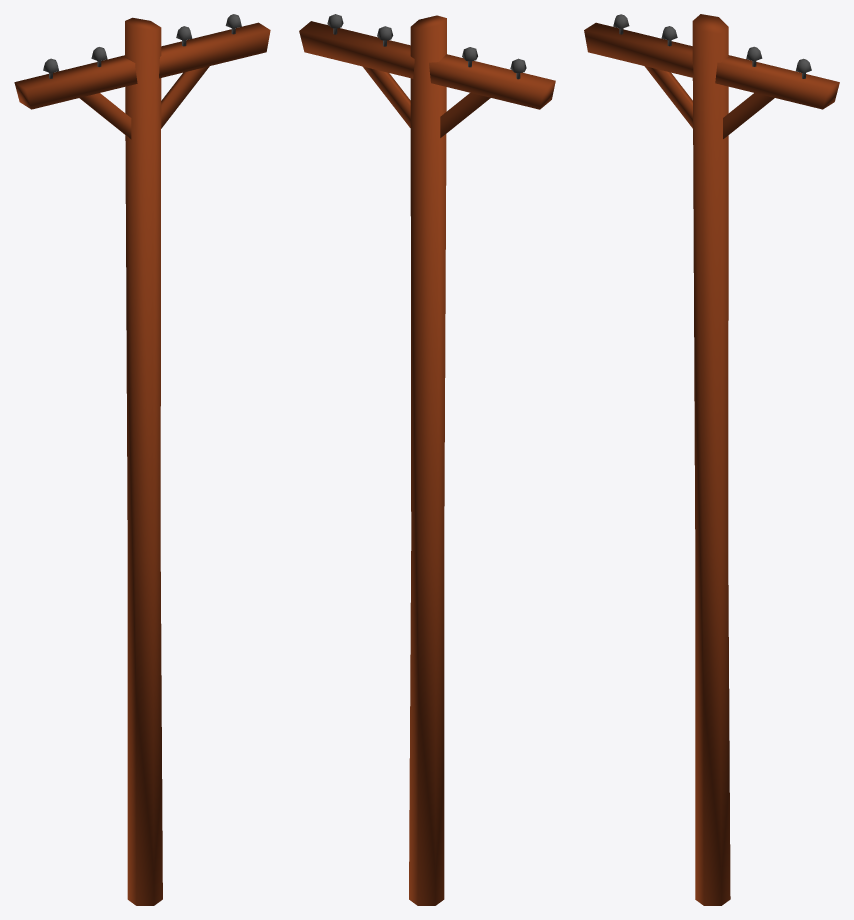
File: ElectricPole.fbx
3 views of the same model, side by side, from view 1: azimuth 30°, elevation 25°; view 2: azimuth 150°, elevation 25°; view 3: azimuth 330°, elevation 25° (orthographic).
Parts seen in each view (by area): view 1: pole-electric; view 2: pole-electric; view 3: pole-electric.
Part boxes in pixels (x1,y1,x2,y2): pole-electric: [14, 14, 270, 905]; pole-electric: [299, 14, 555, 905]; pole-electric: [584, 14, 839, 905].
Bounding box in the file's own units: 243 × 835 × 32.06.
Materials: 1 (1 with a texture image).
